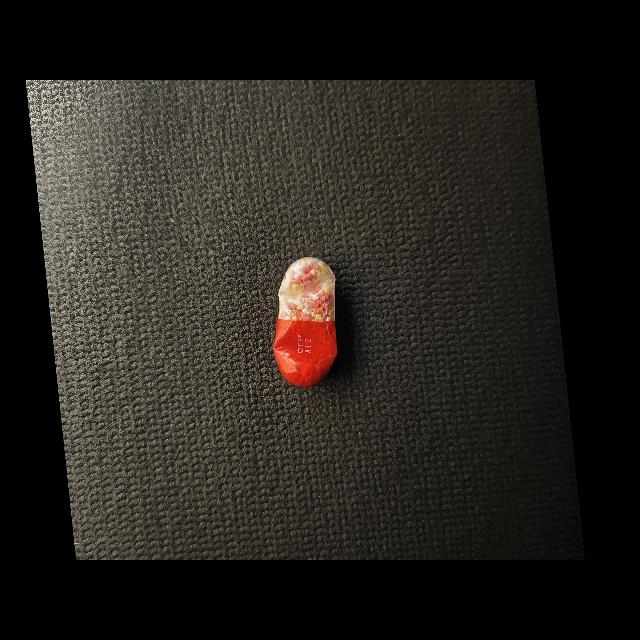Defective Capsule: (274, 257, 338, 388)
